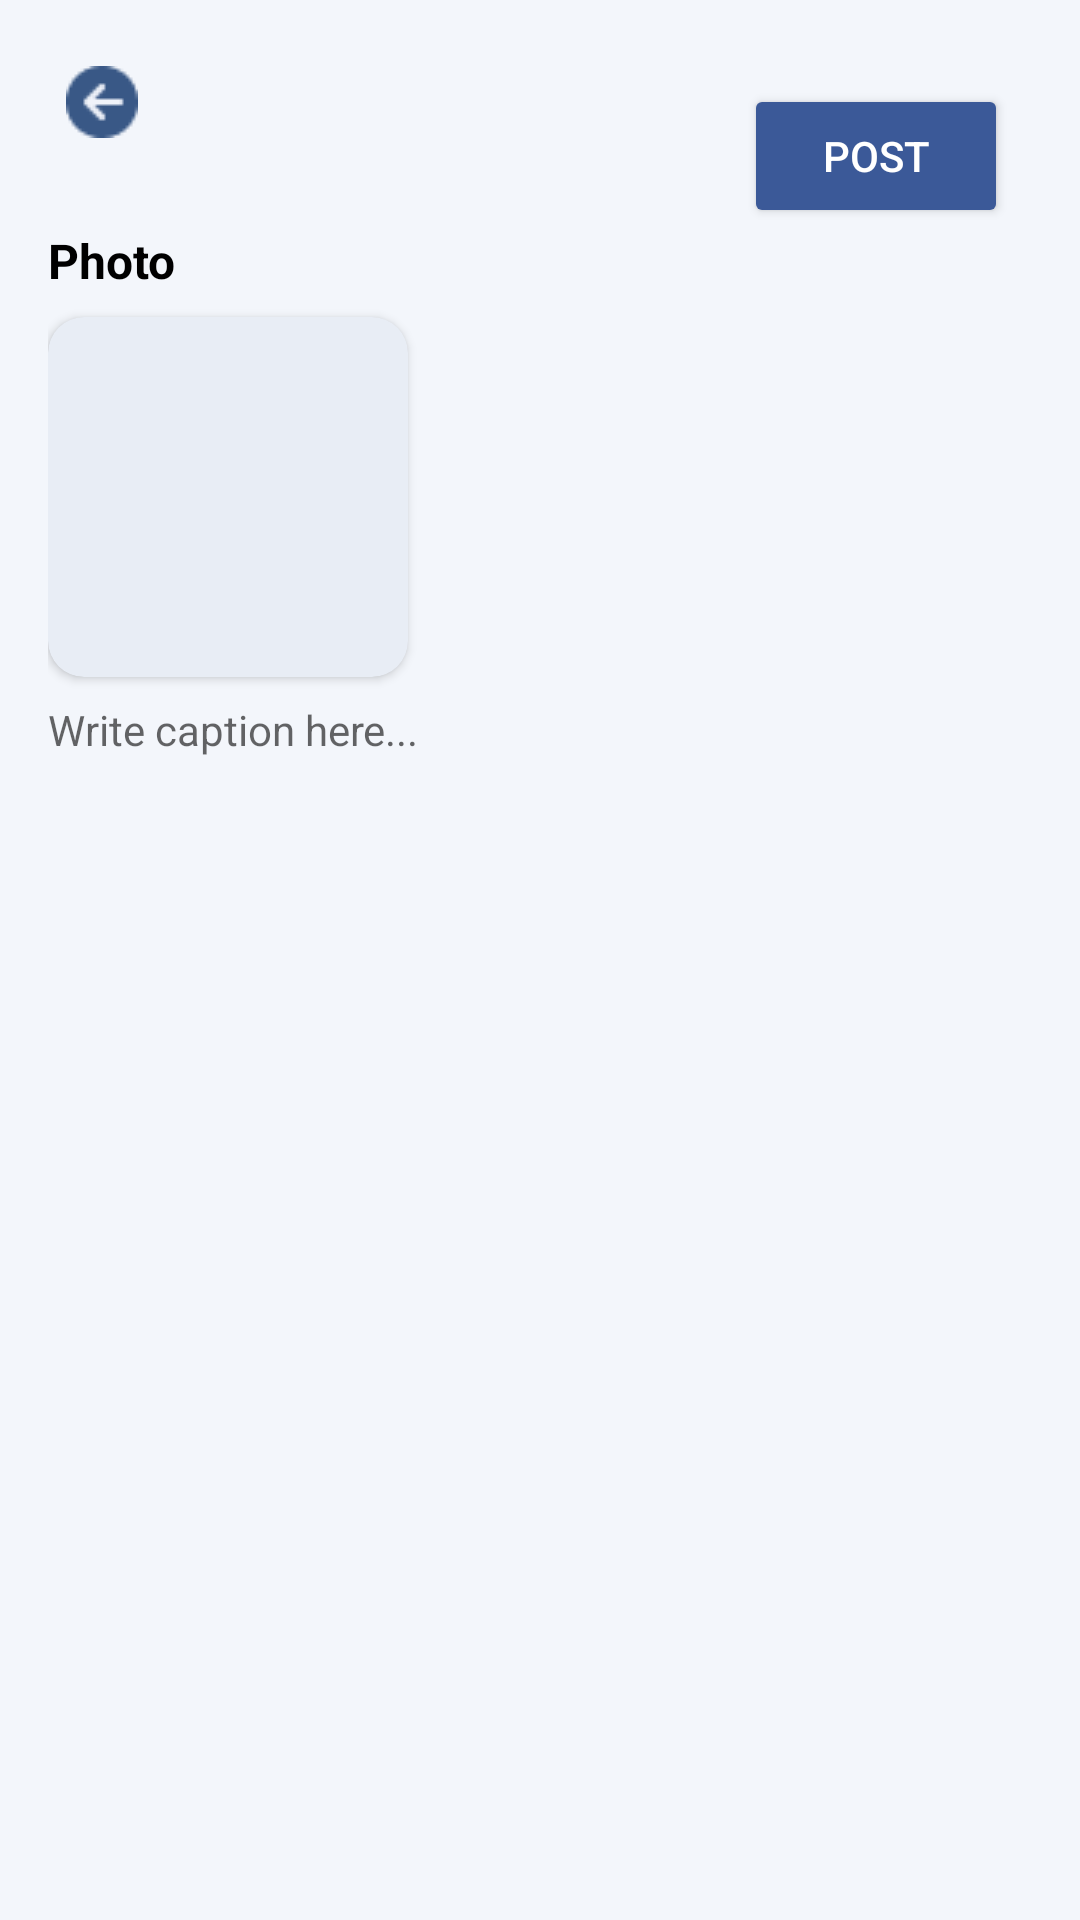

Screen size 1080w x 1920h. Icon name, then its center in pixels as (x=x, y=y):
Back: (x=102, y=102)
